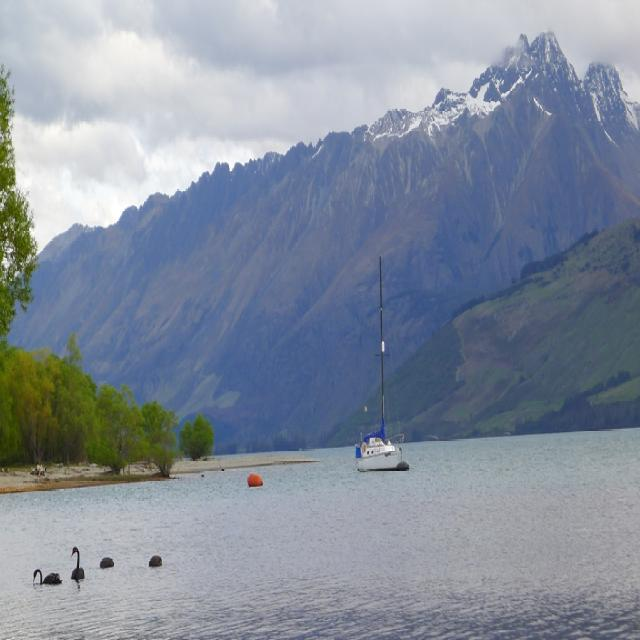Boat: (348, 275, 422, 478)
